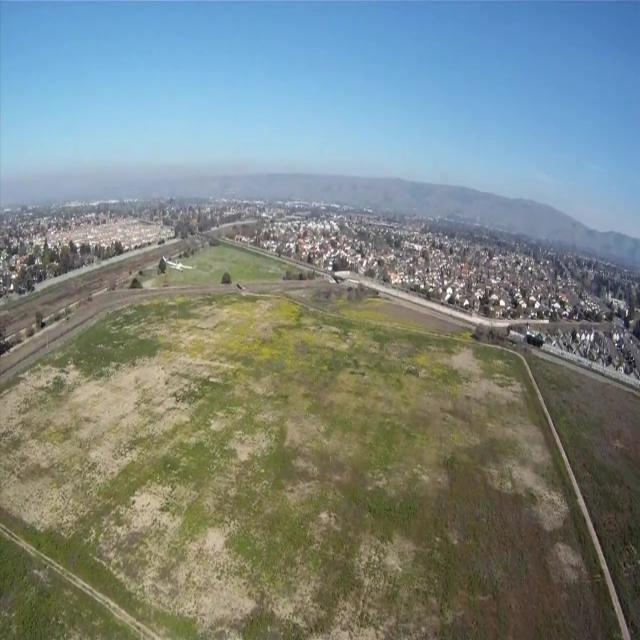iha: (161, 247, 196, 268)
